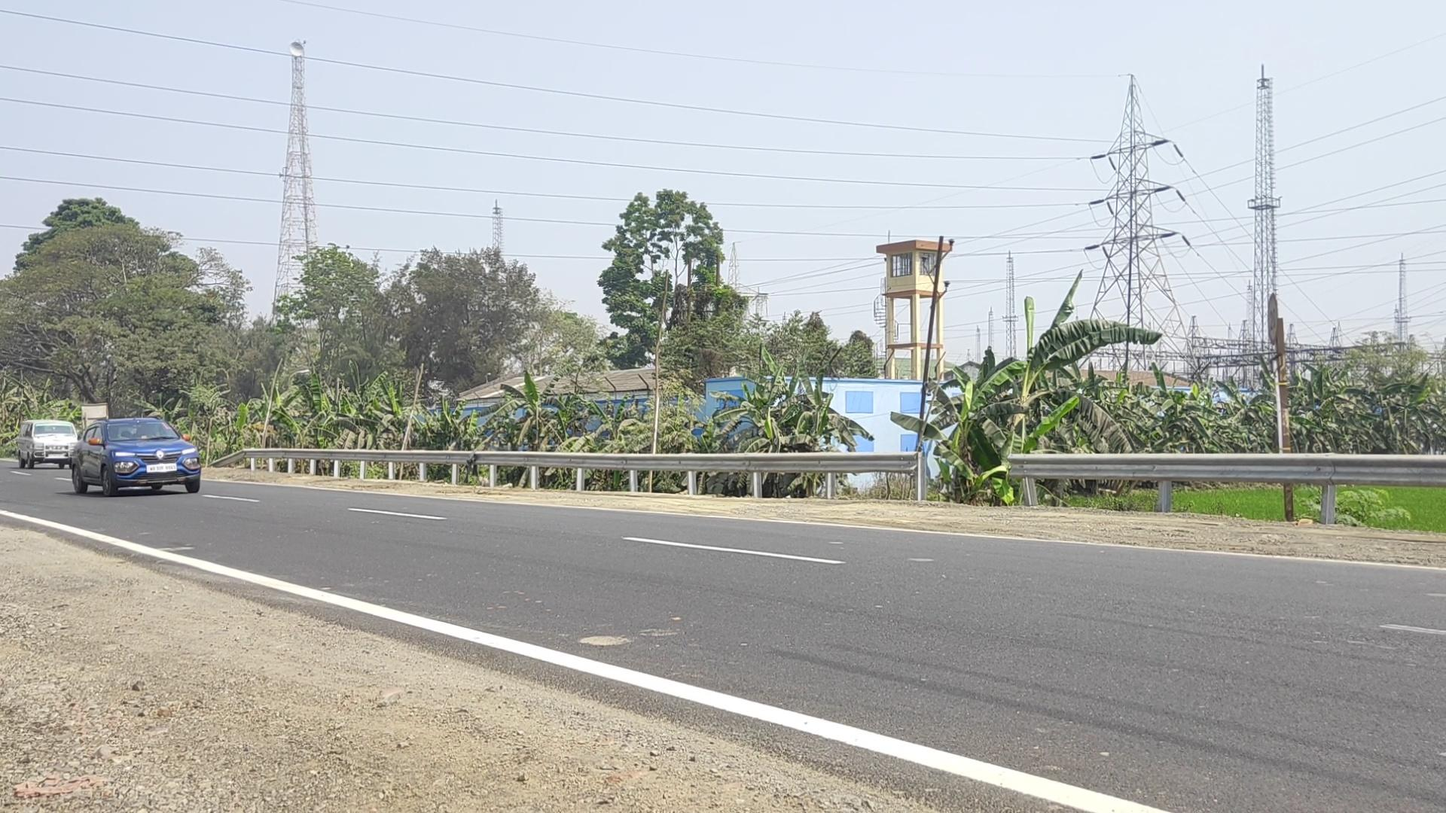car: (72, 416, 201, 497)
van: (16, 419, 78, 470)
